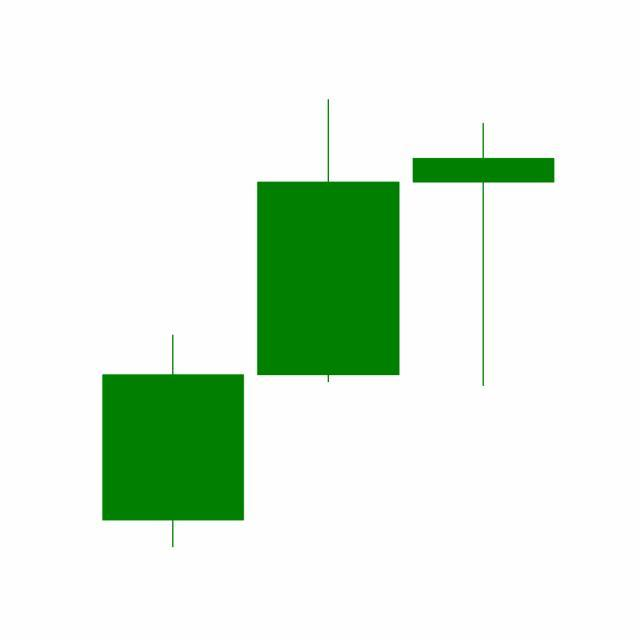Dragonfly Doji: (406, 120, 562, 390)
